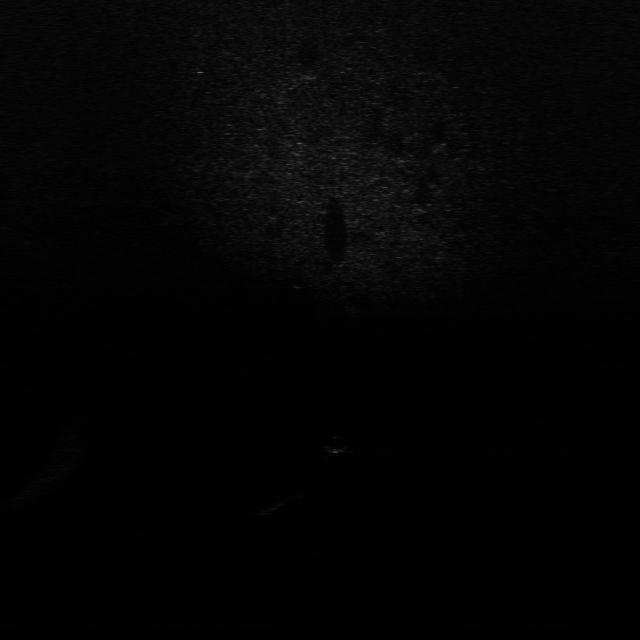ball: (322, 429, 352, 453)
square cage: (253, 492, 321, 515)
